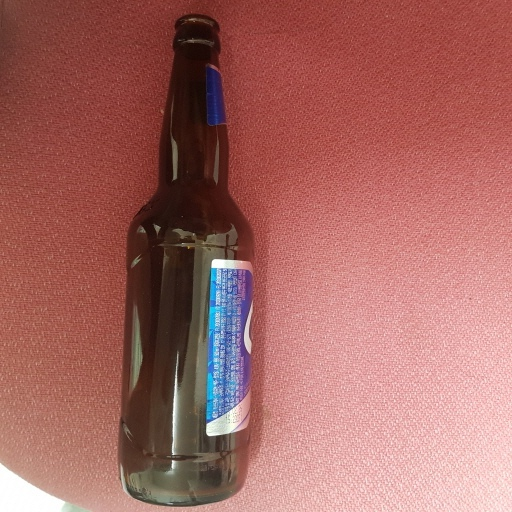Glass_1: (115, 11, 262, 506)
